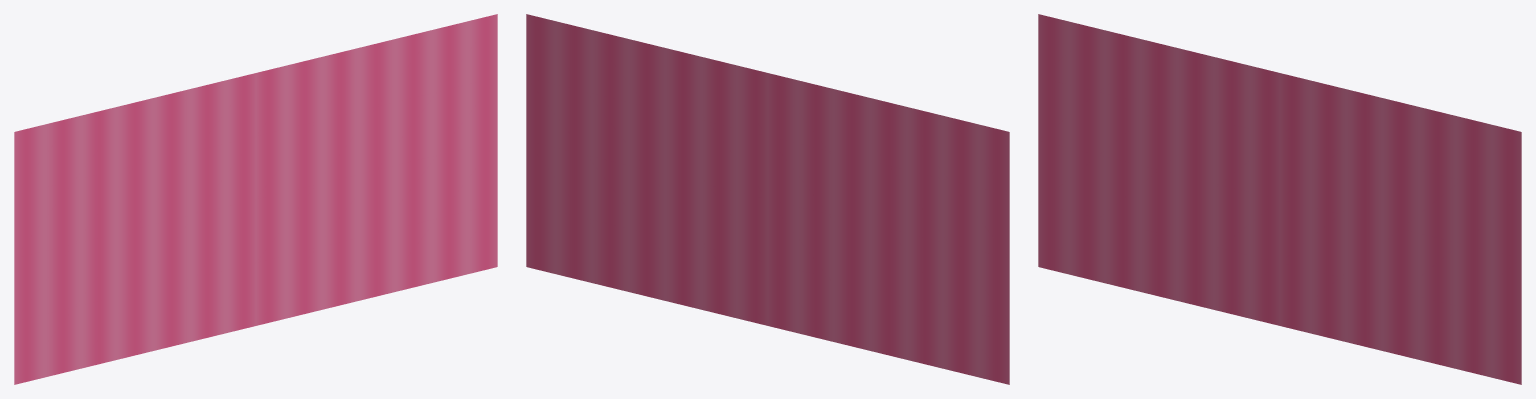
Rendered from test_object_curtain01.fbx.
3 renders of one model, left to right at view 1: azimuth 30°, elevation 25°; view 2: azimuth 150°, elevation 25°; view 3: azimuth 330°, elevation 25°, orthographic.
Parts seen in each view (by area): view 1: curtain_left, curtain_right; view 2: curtain_left, curtain_right; view 3: curtain_left, curtain_right.
Boxes of the visible parts, x1=… form: curtain_left: x1=14, y1=73, x2=255, y2=384; curtain_right: x1=256, y1=14, x2=497, y2=325; curtain_left: x1=768, y1=73, x2=1009, y2=384; curtain_right: x1=526, y1=14, x2=767, y2=325; curtain_left: x1=1038, y1=14, x2=1279, y2=325; curtain_right: x1=1280, y1=73, x2=1521, y2=384.
Size of the model in its own units: 400 by 200 by 1.19e-07.
Materials: 1 (1 with a texture image).
